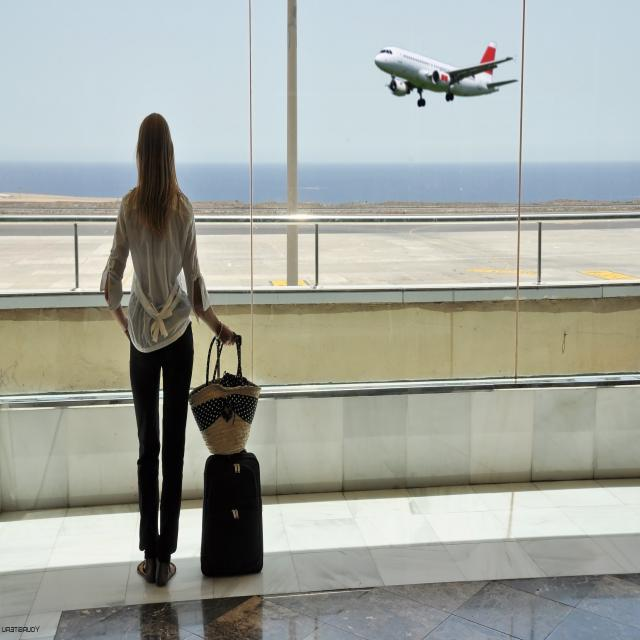plain: (365, 35, 525, 112)
